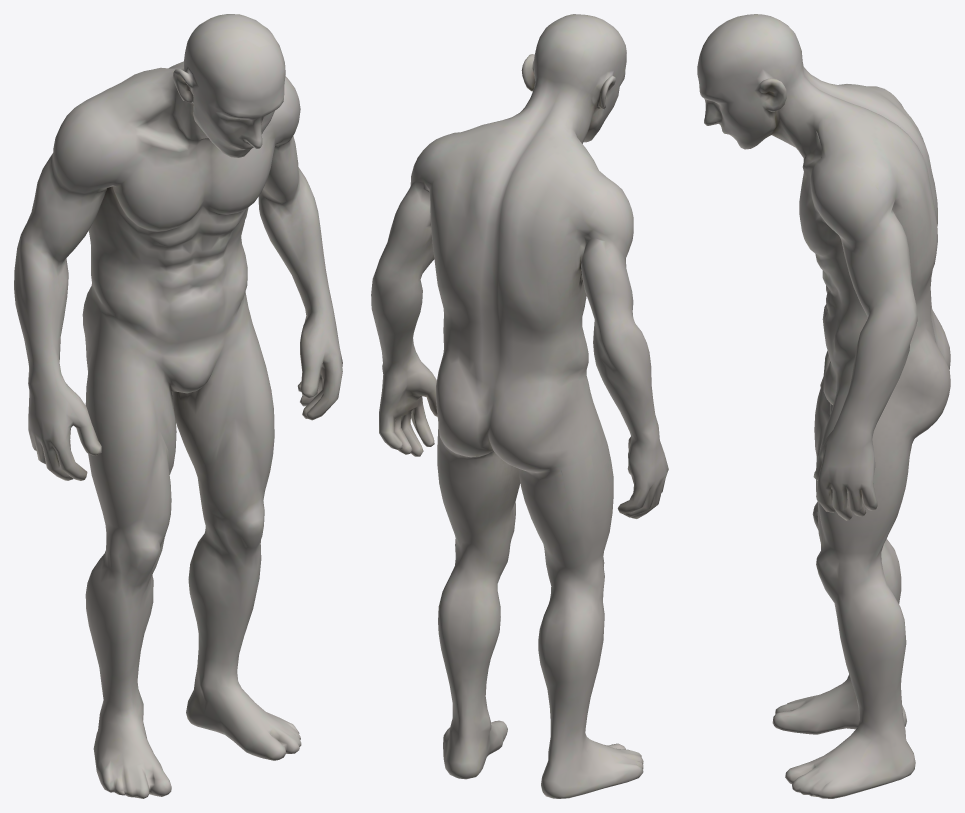
Rendered from Ruins__collapsed_b5f96b18_v4.cluster.glb.
3 views of the same model, side by side, from view 1: azimuth 30°, elevation 25°; view 2: azimuth 150°, elevation 25°; view 3: azimuth 270°, elevation 25° (orthographic). The views are drawn at different scales.
Visible parts, largest first — view 1: material; view 2: material; view 3: material.
Boxes of the visible parts, x1,y1,x2,y2 form: material: (14,14,342,798); material: (371,14,668,798); material: (697,14,950,798).
Size of the model in its own units: 0.7694 by 1.9 by 0.5917.
1 material, 1 textured.
